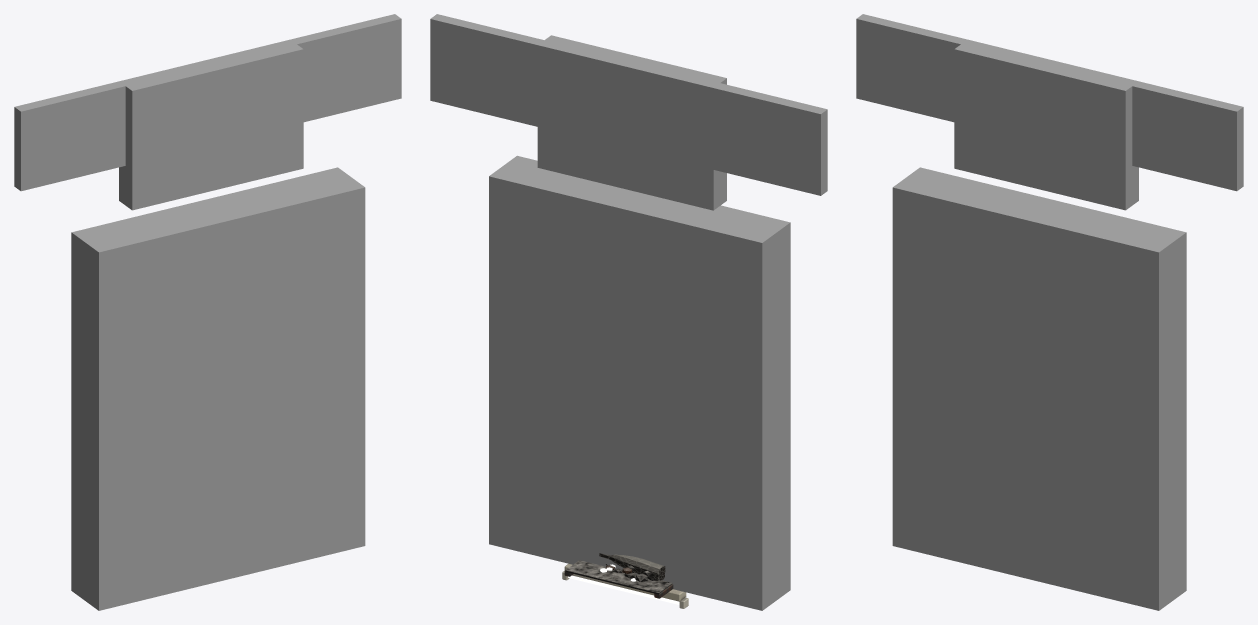
The model's file is common.glb.
The picture shows the model from 3 angles, left to right: view 1: azimuth 30°, elevation 25°; view 2: azimuth 150°, elevation 25°; view 3: azimuth 330°, elevation 25°; orthographic projection. The views are drawn at different scales.
Parts seen in each view (by area): view 1: Band_service_shelf, Band_bell_board, Band_conduit; view 2: Band_service_shelf, Band_conduit, Band_bell_board, Fix_fire_embers, Fix_batten_light; view 3: Band_service_shelf, Band_bell_board, Band_conduit.
Boxes of the visible parts, x1,y1,x2,y2 form: Band_service_shelf: (71, 167, 365, 610); Band_bell_board: (119, 40, 303, 210); Band_conduit: (14, 14, 401, 191); Band_service_shelf: (489, 155, 790, 610); Band_conduit: (430, 14, 827, 195); Band_bell_board: (537, 35, 726, 210); Fix_fire_embers: (564, 553, 673, 598); Fix_batten_light: (562, 563, 688, 608); Band_service_shelf: (892, 167, 1186, 610); Band_bell_board: (954, 41, 1138, 210); Band_conduit: (856, 14, 1243, 191).
Bounding box in the file's own units: 2 × 2.57 × 0.37.
Materials: 3 (1 with a texture image).
